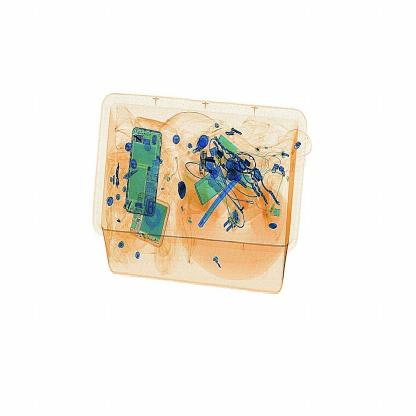pliers: (194, 161, 247, 230)
